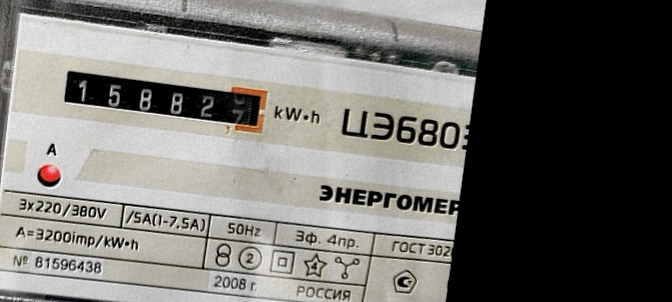1: (75, 77, 90, 104)
2: (198, 93, 217, 120)
5: (105, 82, 123, 109)
7: (228, 106, 245, 125)
8: (136, 86, 155, 113), (168, 90, 186, 117)
screen: (52, 58, 277, 144)
